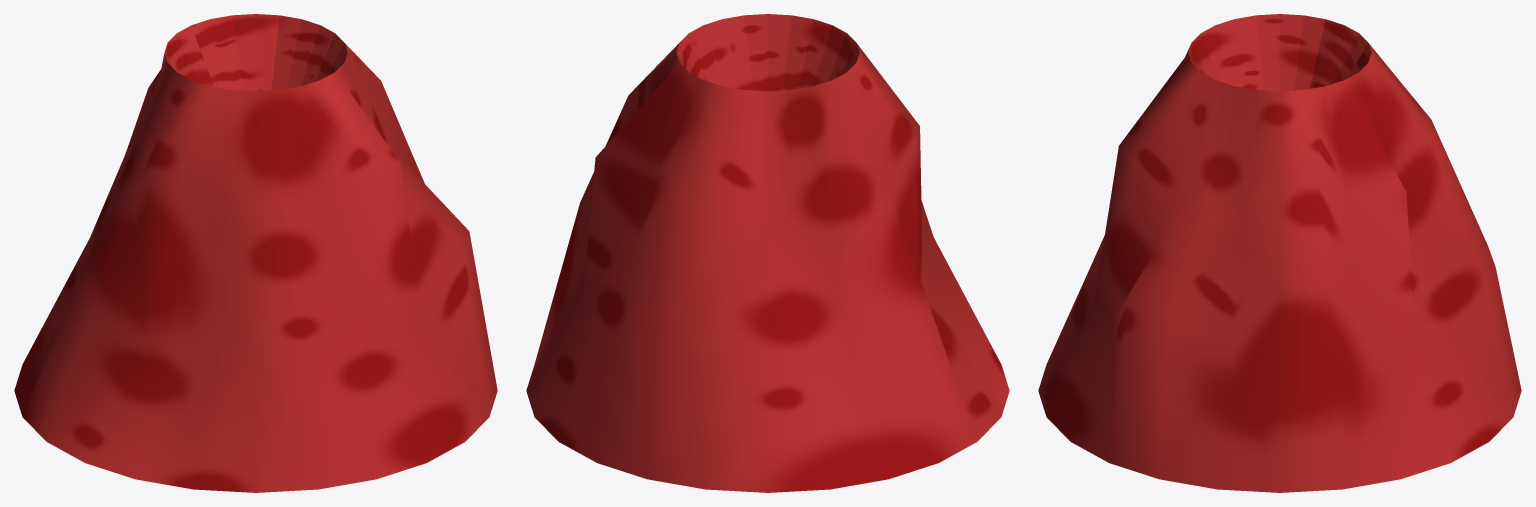
File: squirter.FBX
3 views of the same model, side by side, from view 1: azimuth 30°, elevation 25°; view 2: azimuth 150°, elevation 25°; view 3: azimuth 270°, elevation 25° (orthographic).
Parts seen in each view (by area): view 1: Cone001; view 2: Cone001; view 3: Cone001.
Part boxes in pixels (bbox=[...]): Cone001: bbox=[14, 14, 497, 492]; Cone001: bbox=[526, 14, 1009, 492]; Cone001: bbox=[1038, 14, 1521, 492].
Size of the model in its own units: 13.01 by 10.04 by 13.01.
